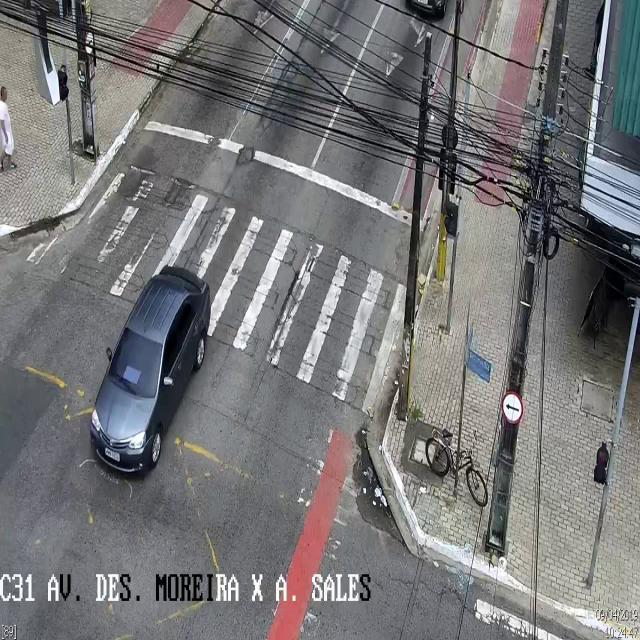Car: (88, 265, 210, 477)
